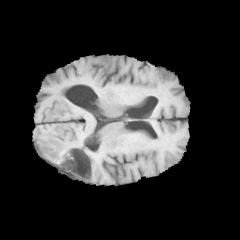glioma: (35, 137, 98, 185)
